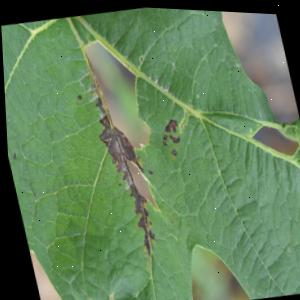Folha: (0, 0, 300, 300)
Fungo: (86, 81, 203, 261), (87, 90, 158, 260), (126, 192, 155, 255), (154, 115, 182, 157), (111, 124, 134, 163), (92, 113, 112, 147), (157, 128, 178, 146), (160, 115, 177, 132), (91, 95, 104, 115), (157, 131, 168, 145), (160, 119, 170, 131), (162, 210, 170, 222), (143, 227, 151, 239), (167, 132, 177, 141), (167, 146, 175, 155), (159, 131, 166, 140), (159, 138, 165, 145), (135, 140, 141, 147), (8, 151, 13, 159), (74, 92, 79, 99), (145, 167, 150, 174)
